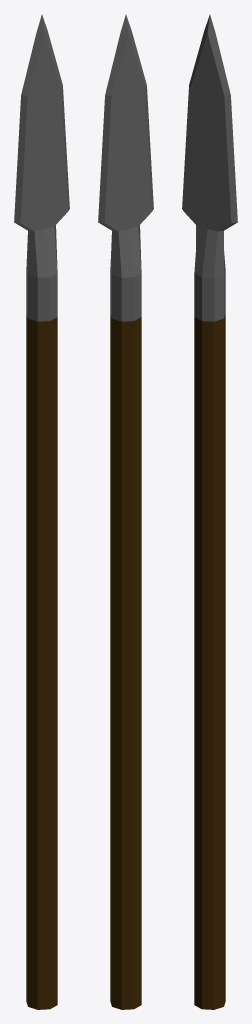
Rendered from spear.fbx.
The picture shows the model from 3 angles, left to right: view 1: azimuth 30°, elevation 25°; view 2: azimuth 210°, elevation 25°; view 3: azimuth 330°, elevation 25°; orthographic projection.
Parts seen in each view (by area): view 1: Cylinder; view 2: Cylinder; view 3: Cylinder.
Part boxes in pixels (bbox=[...]): Cylinder: bbox=[14, 14, 69, 1009]; Cylinder: bbox=[98, 14, 153, 1009]; Cylinder: bbox=[182, 14, 237, 1009].
Bounding box in the file's own units: 399 × 6757 × 200.
